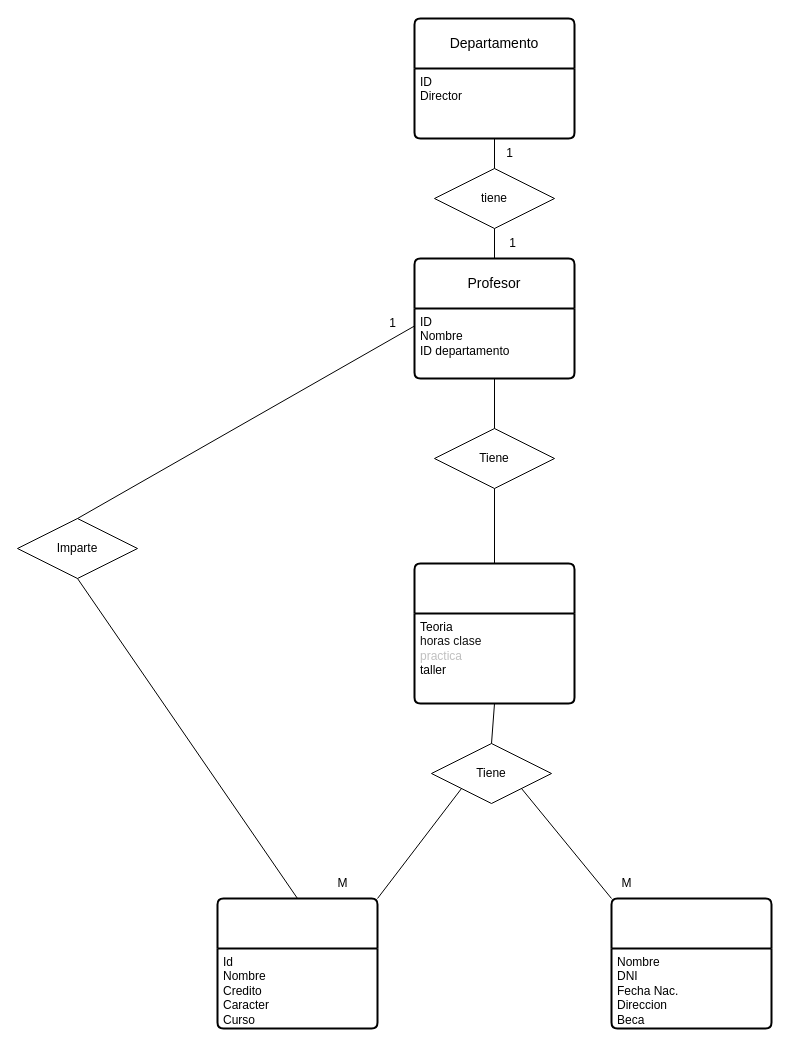
This 790x1046 diagram has some shape labels left out. Here are the shapes that lost their labels. From the top down, the box of each, then its label:
(413, 562, 575, 704): Grupo
(216, 897, 378, 1029): Asignatura
(610, 897, 772, 1029): Alumno
